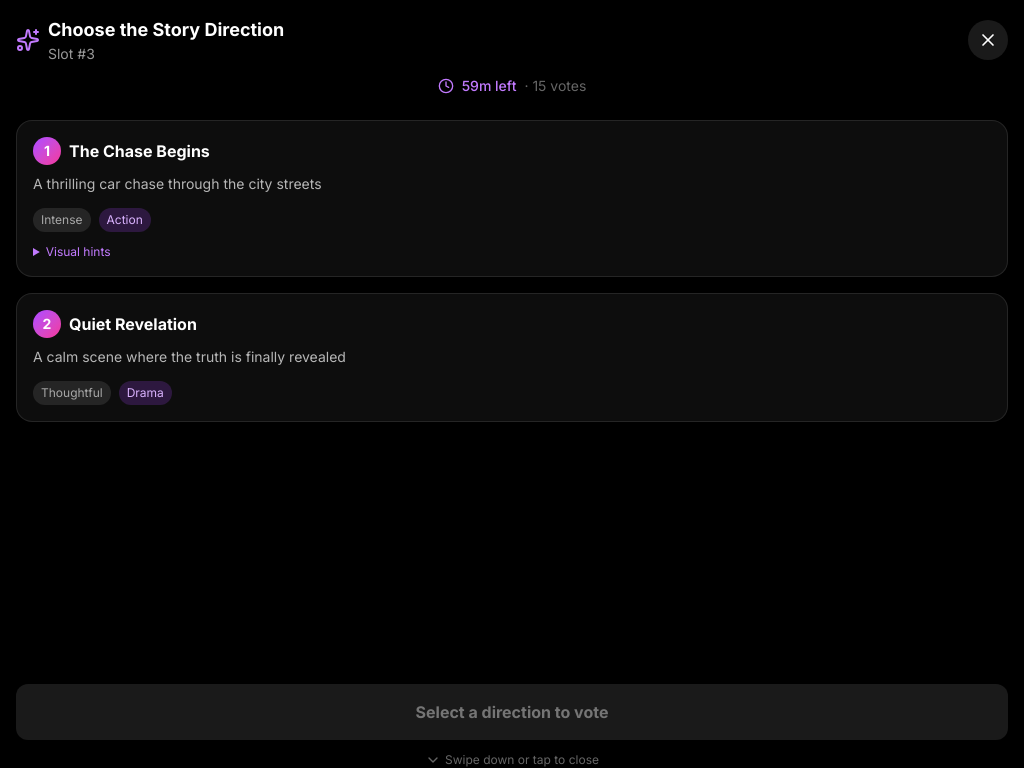
DirectionVotingModal › shows "Submit Vote" after selecting a direction
// Click the first direction
Click the heading "The Chase Begins": x=139, y=151 left=69, top=139, right=210, bottom=163
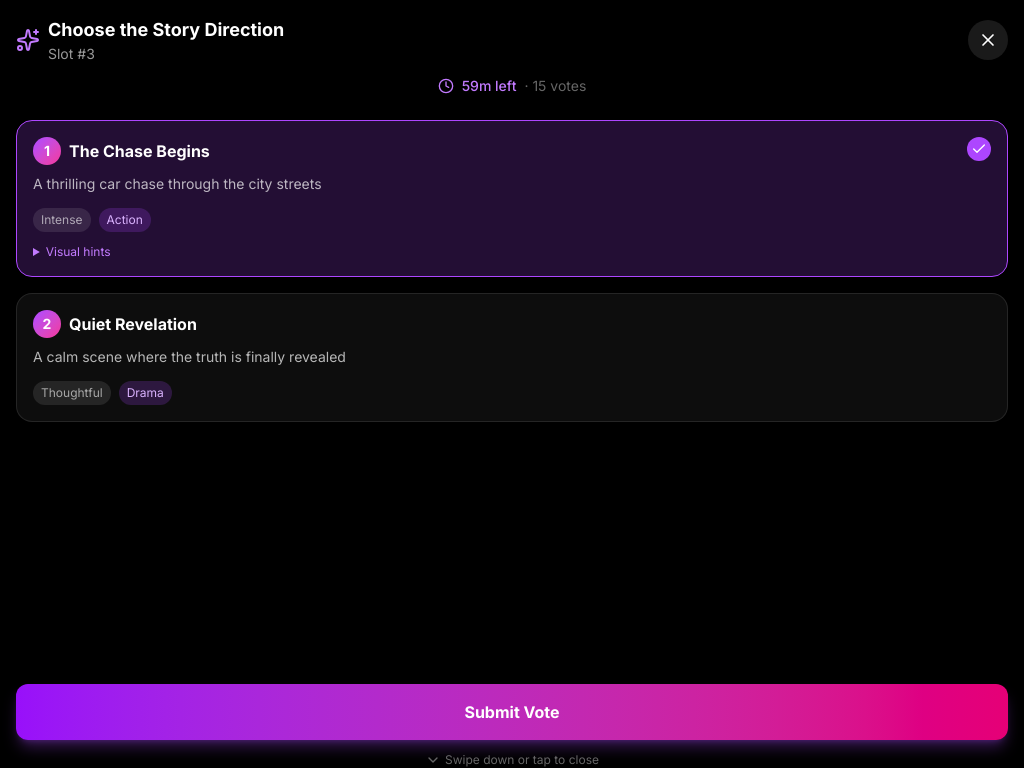
Expected: the button "Submit Vote" is shown, left=16, top=684, right=1008, bottom=740
